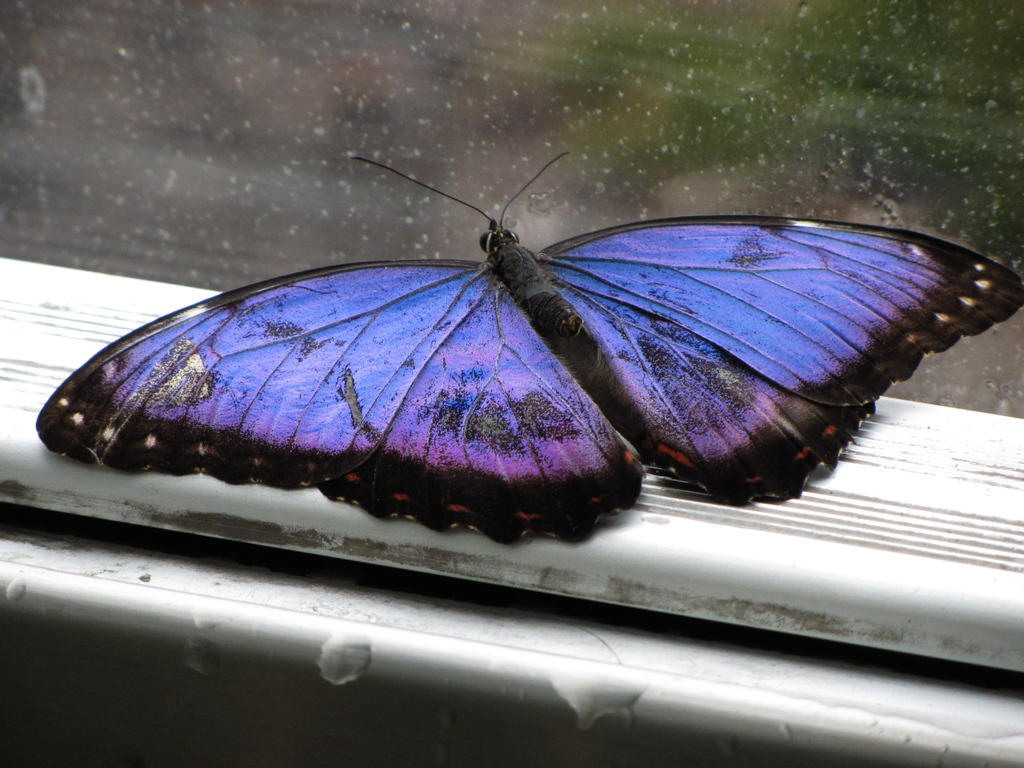Butterfly: (35, 157, 1024, 602)
